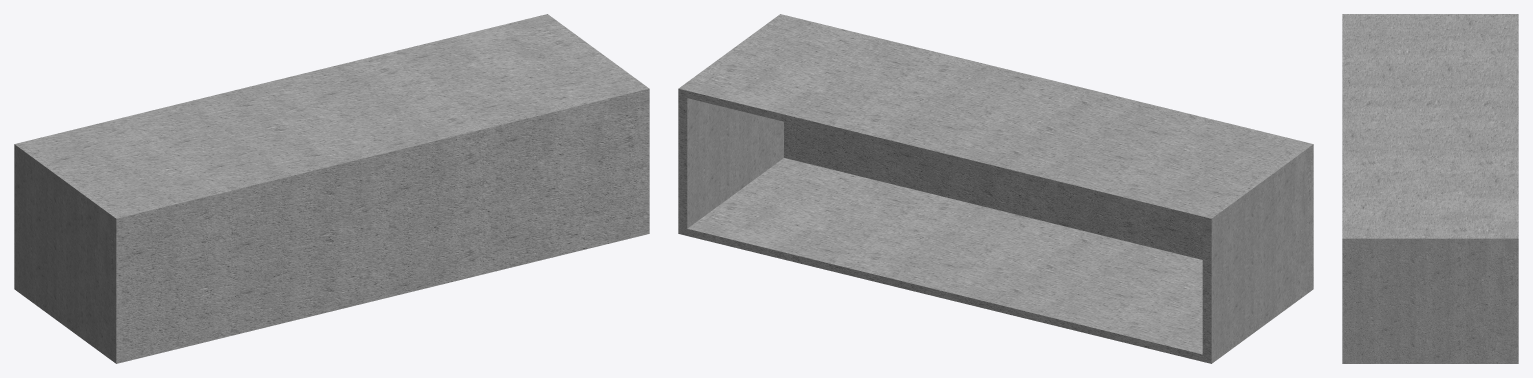
Rendered from Hallway.obj.
3 views of the same model, side by side, from view 1: azimuth 30°, elevation 25°; view 2: azimuth 150°, elevation 25°; view 3: azimuth 270°, elevation 25° (orthographic). The views are drawn at different scales.
Visible parts, largest first — view 1: object_1; view 2: object_1; view 3: object_1.
Boxes of the visible parts, <box> form: object_1: <box>14,14,649,363</box>; object_1: <box>678,14,1313,363</box>; object_1: <box>1342,14,1518,363</box>.
Size of the model in its own units: 15.94 by 4.15 by 5.28.
Materials: 1 (1 with a texture image).
